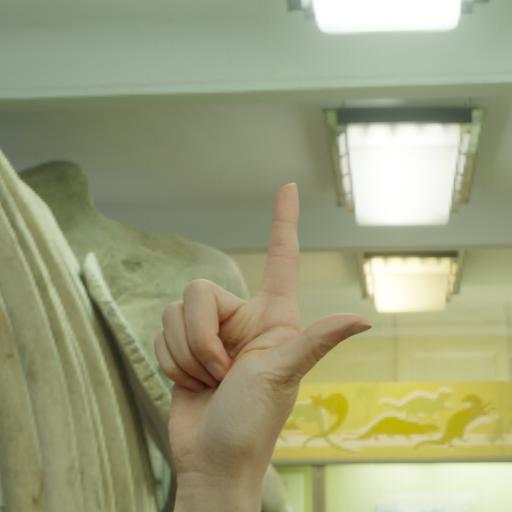L: (130, 172, 385, 512)
